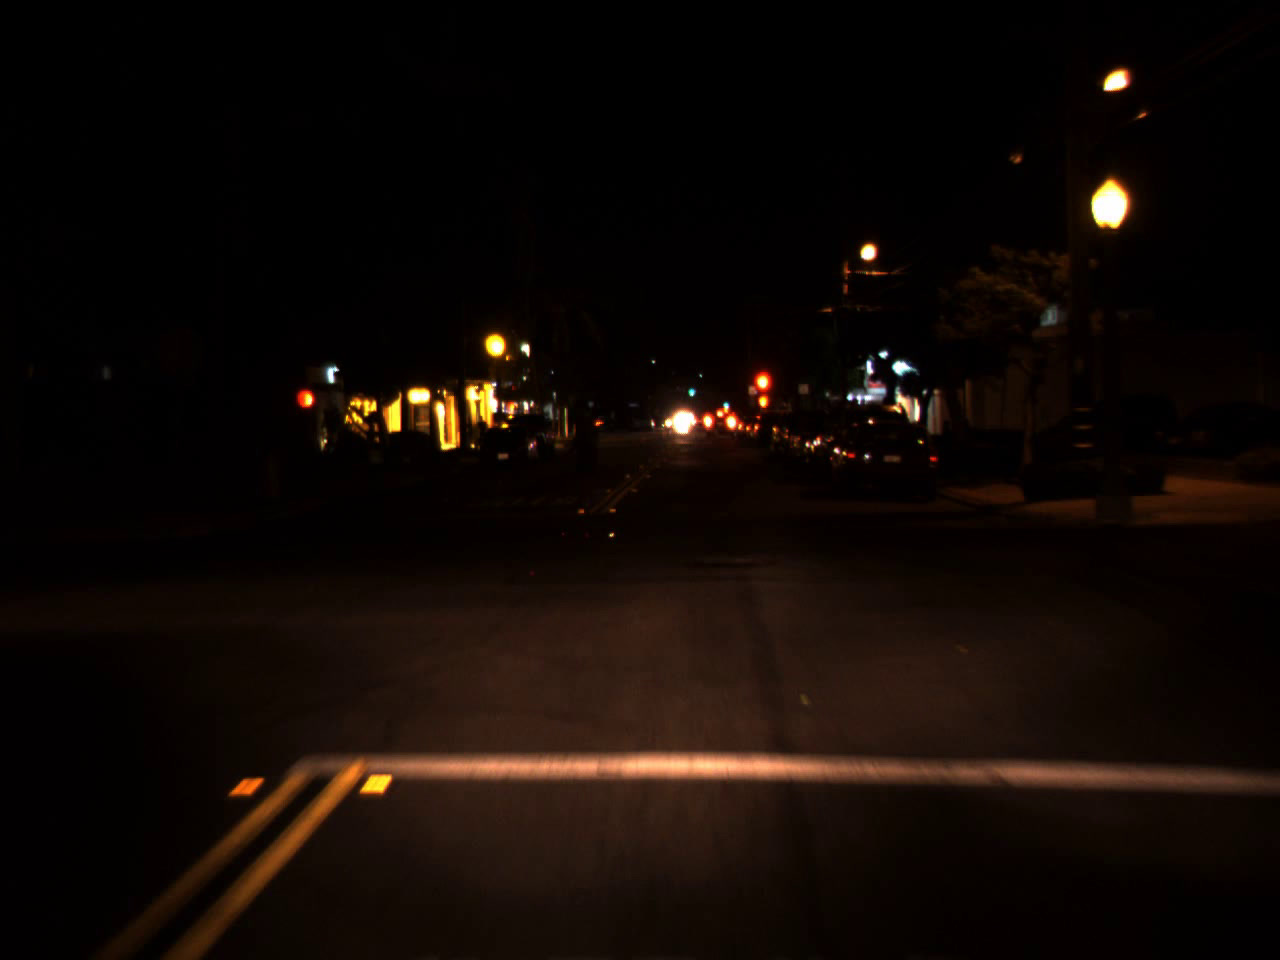go: (686, 381, 696, 396), (721, 393, 730, 408)
stop: (749, 367, 774, 421)
